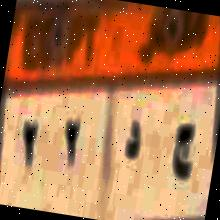2: (54, 113, 88, 180), (15, 118, 43, 172)
daal: (118, 110, 148, 172)
jeem: (168, 109, 200, 186)
